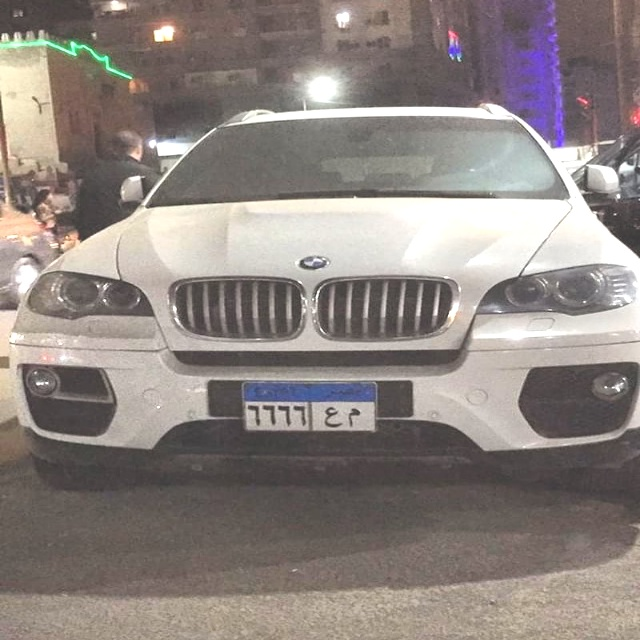License Plate: (239, 379, 379, 435)
